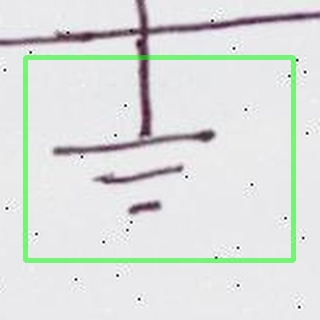Earth Electrode: (26, 58, 294, 259)
